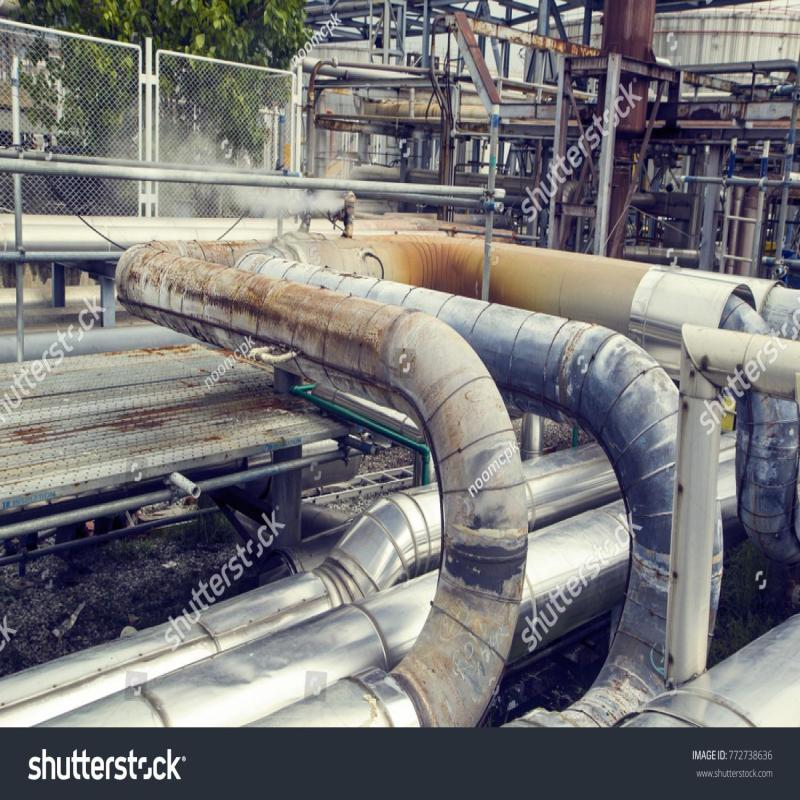corrosion: (386, 224, 498, 316)
